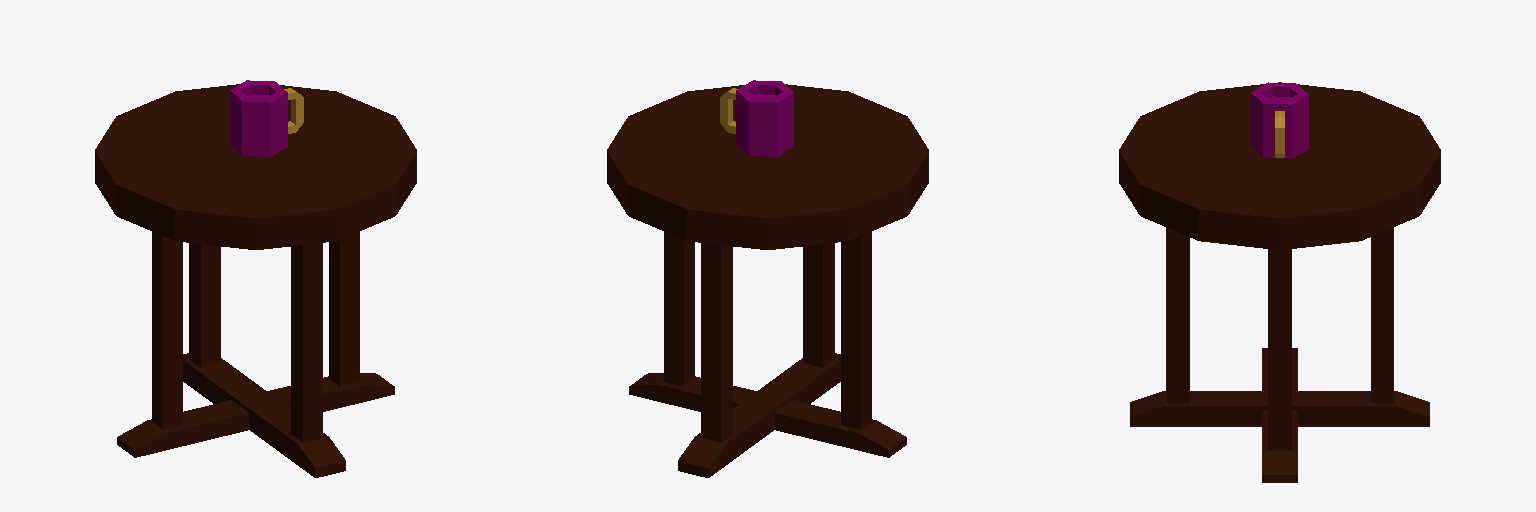
The model's file is small_table.obj.
3 views of the same model, side by side, from view 1: azimuth 30°, elevation 25°; view 2: azimuth 150°, elevation 25°; view 3: azimuth 270°, elevation 25° (orthographic).
Visible parts, largest first — view 1: Cylinder012, Object001, Object002, Box028, Box027, Cylinder009, Box014; view 2: Cylinder012, Object001, Object002, Box028, Box027, Cylinder009, Box014; view 3: Cylinder012, Box028, Object002, Object001, Cylinder009, Box027.
Part boxes in pixels (left/top/right/bottom): Cylinder012: left=95, top=84, right=416, bottom=249; Object001: left=152, top=232, right=359, bottom=429; Object002: left=189, top=243, right=322, bottom=441; Box028: left=183, top=353, right=345, bottom=477; Box027: left=117, top=373, right=394, bottom=457; Cylinder009: left=230, top=80, right=287, bottom=156; Box014: left=284, top=88, right=303, bottom=133; Cylinder012: left=607, top=84, right=928, bottom=249; Object001: left=664, top=232, right=871, bottom=429; Object002: left=701, top=243, right=834, bottom=441; Box028: left=678, top=353, right=840, bottom=477; Box027: left=629, top=373, right=906, bottom=457; Cylinder009: left=736, top=80, right=793, bottom=156; Box014: left=720, top=88, right=737, bottom=133; Cylinder012: left=1119, top=82, right=1440, bottom=249; Box028: left=1130, top=391, right=1429, bottom=426; Object002: left=1166, top=227, right=1393, bottom=402; Object001: left=1268, top=249, right=1291, bottom=449; Cylinder009: left=1251, top=82, right=1308, bottom=158; Box027: left=1262, top=348, right=1297, bottom=482.
Bounding box in the file's own units: 37.17 × 41.65 × 37.17.